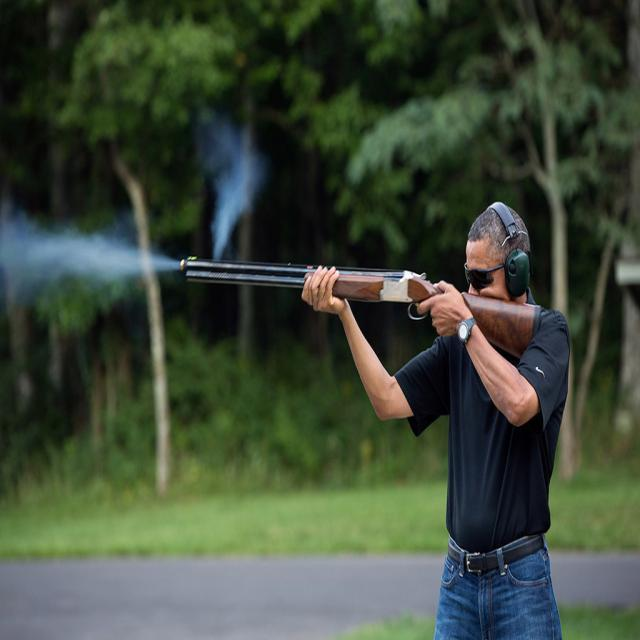weapon: (179, 256, 542, 360)
